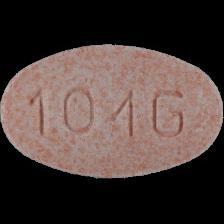43063-381: (0, 0, 224, 224)
